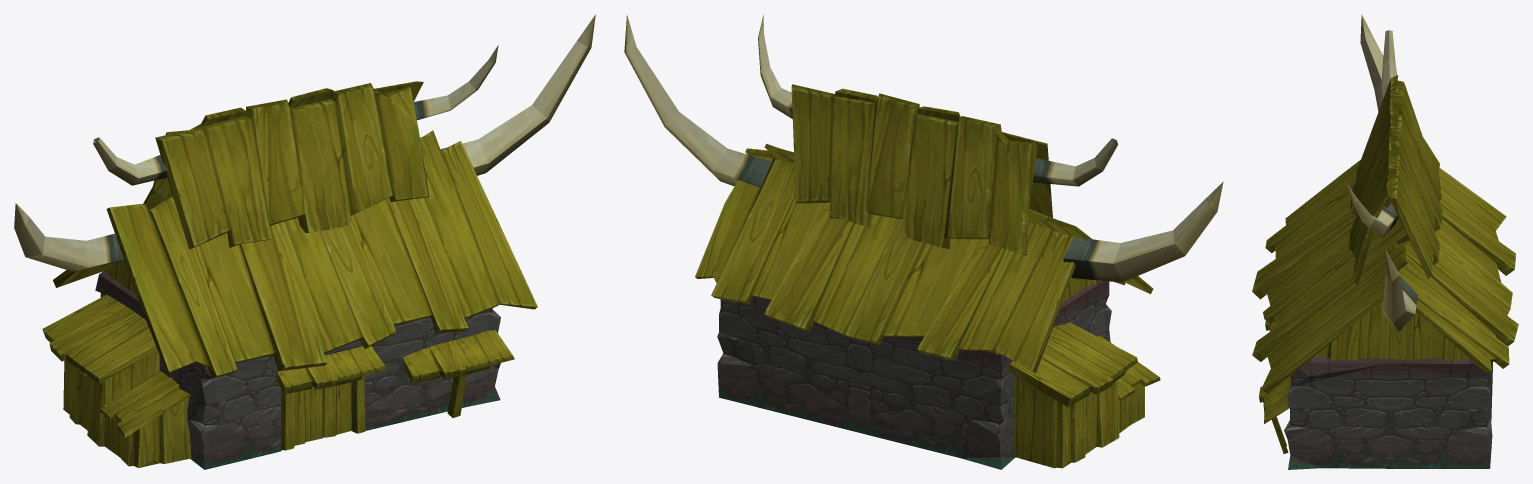
Rendered from Cunluo_fangzi04.FBX.
3 renders of one model, left to right at view 1: azimuth 30°, elevation 25°; view 2: azimuth 150°, elevation 25°; view 3: azimuth 270°, elevation 25°, orthographic. The views are drawn at different scales.
Visible parts, largest first — view 1: Cunluo_fangzi04; view 2: Cunluo_fangzi04; view 3: Cunluo_fangzi04.
Part boxes in pixels (x1=…): Cunluo_fangzi04: x1=14, y1=14, x2=595, y2=469; Cunluo_fangzi04: x1=624, y1=14, x2=1223, y2=469; Cunluo_fangzi04: x1=1252, y1=14, x2=1518, y2=469.
Size of the model in its own units: 922 by 488 by 389.
